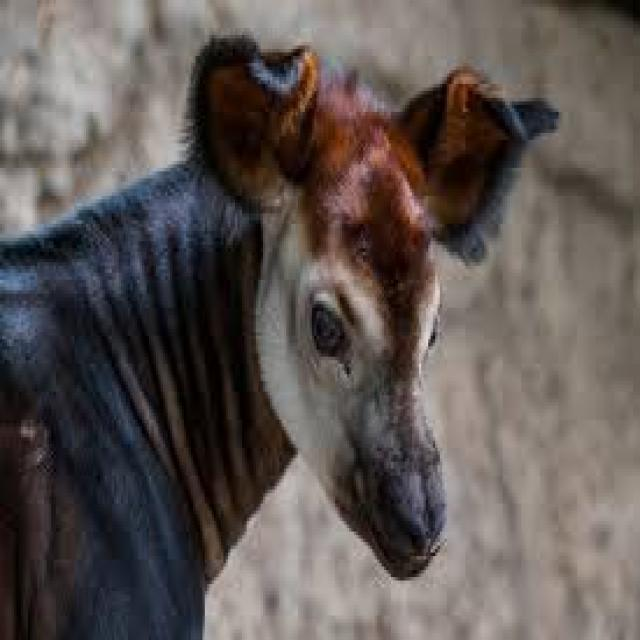Okapi: (0, 24, 568, 640)
